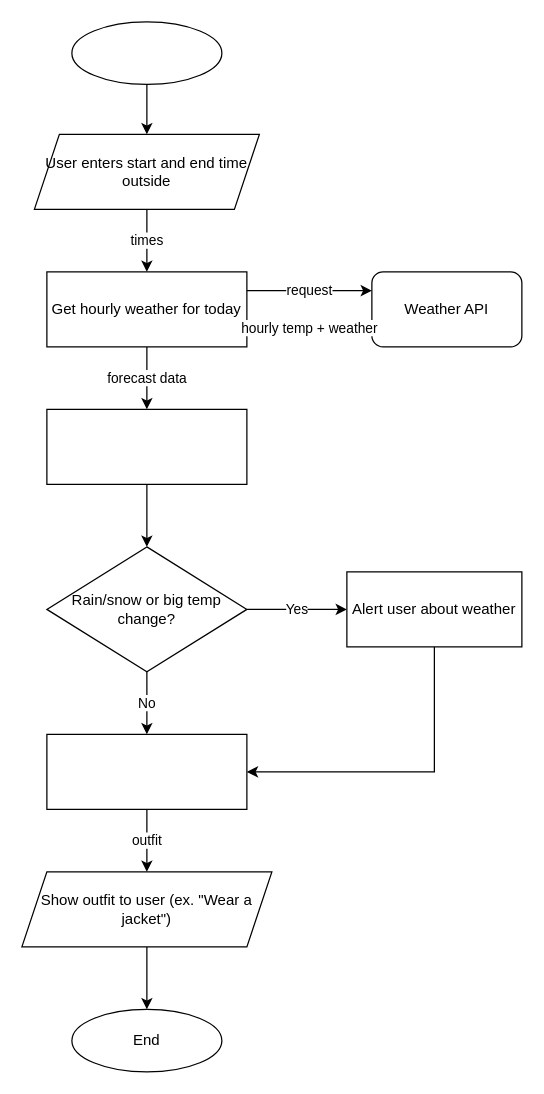
Image size: 544x1094. Some labels were removed from this diagram. Each missing label, with the box of its shape:
Check weather during user's time window: (46, 408, 247, 484)
Pick outfit based on temp and weather: (46, 733, 247, 809)
Start: (71, 21, 222, 84)
